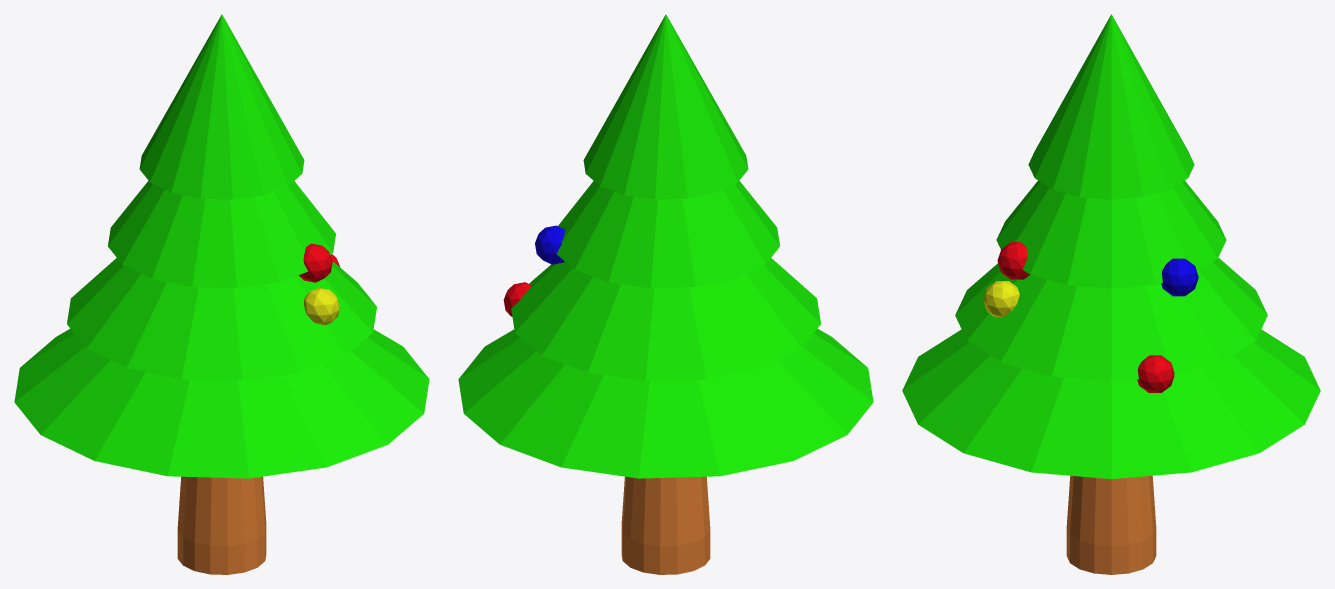
File: ChristmasTree.fbx
The picture shows the model from 3 angles, left to right: view 1: azimuth 30°, elevation 25°; view 2: azimuth 150°, elevation 25°; view 3: azimuth 270°, elevation 25°; orthographic projection.
Parts seen in each view (by area): view 1: Cone, Cone.001, Cone.002, Cone.003, Cylinder, Icosphere.003, Icosphere.002; view 2: Cone, Cone.001, Cone.002, Cone.003, Cylinder, Icosphere.001; view 3: Cone, Cone.001, Cone.003, Cone.002, Cylinder, Icosphere.001, Icosphere, Icosphere.003, Icosphere.002.
Part boxes in pixels (x1,y1,x2,y2): Cone: [14, 328, 429, 478]; Cone.001: [67, 258, 376, 380]; Cone.002: [108, 181, 335, 288]; Cone.003: [139, 14, 304, 199]; Cylinder: [177, 476, 266, 574]; Icosphere.003: [303, 287, 339, 324]; Icosphere.002: [298, 243, 332, 282]; Cone: [458, 328, 873, 478]; Cone.001: [511, 258, 820, 380]; Cone.002: [556, 181, 779, 288]; Cone.003: [583, 14, 748, 199]; Cylinder: [621, 476, 710, 574]; Icosphere.001: [535, 225, 565, 264]; Cone: [902, 329, 1320, 479]; Cone.001: [955, 258, 1267, 381]; Cone.003: [1028, 14, 1194, 199]; Cone.002: [996, 180, 1226, 288]; Cylinder: [1066, 475, 1156, 574]; Icosphere.001: [1161, 258, 1198, 296]; Icosphere: [1137, 355, 1174, 392]; Icosphere.003: [983, 281, 1019, 317]; Icosphere.002: [997, 242, 1030, 279].
Size of the model in its own units: 504 by 719 by 504.
